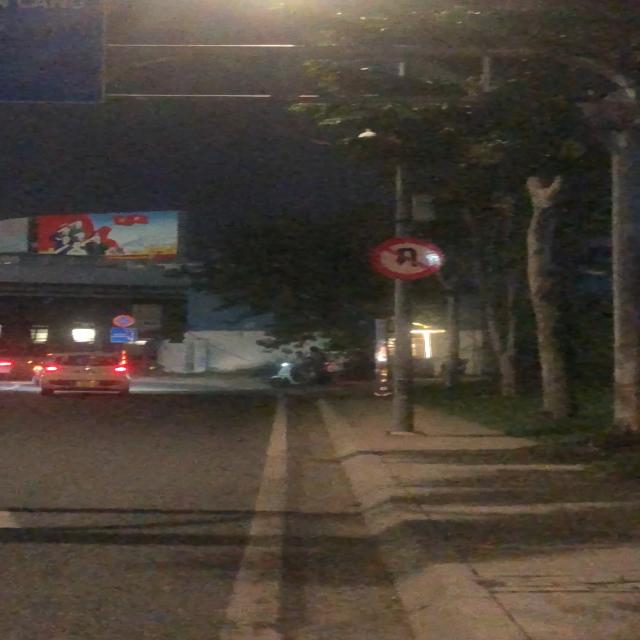Bien bao cam quay dau xe: (369, 235, 448, 283)
